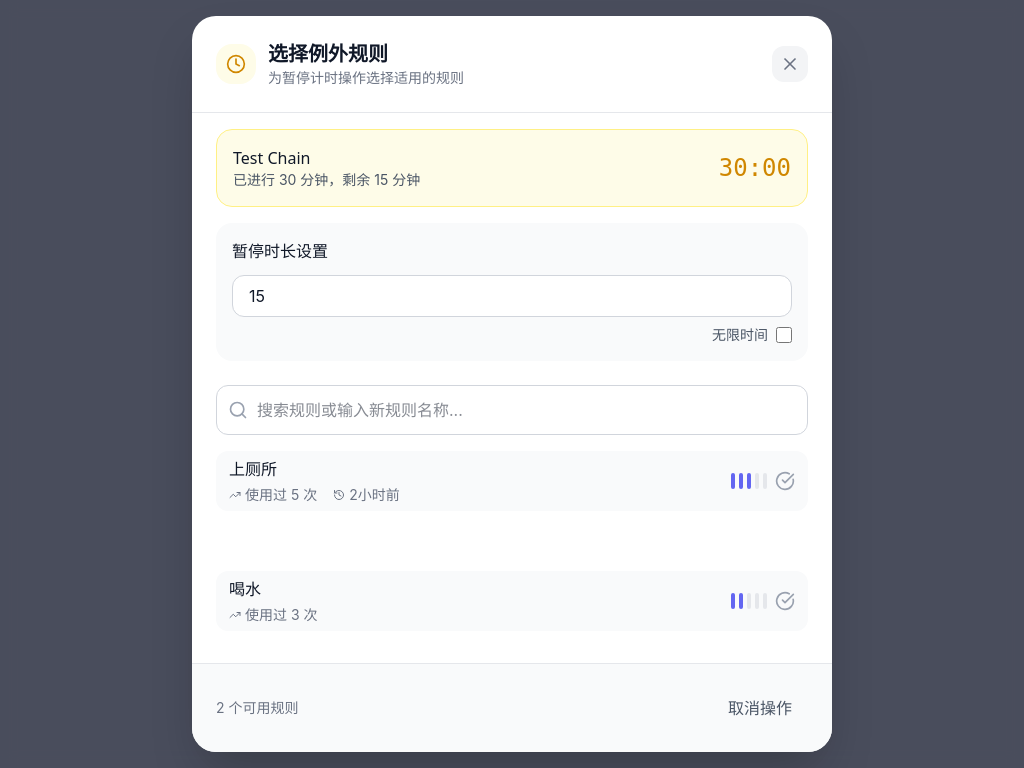
Scenario: RuleSelectionDialog › search functionality › should show create new rule option when typing
Type "新规则" into the field labelled "搜索规则".
click(512, 410); type("新规则")  # box x1=216 y1=385 x2=808 y2=435
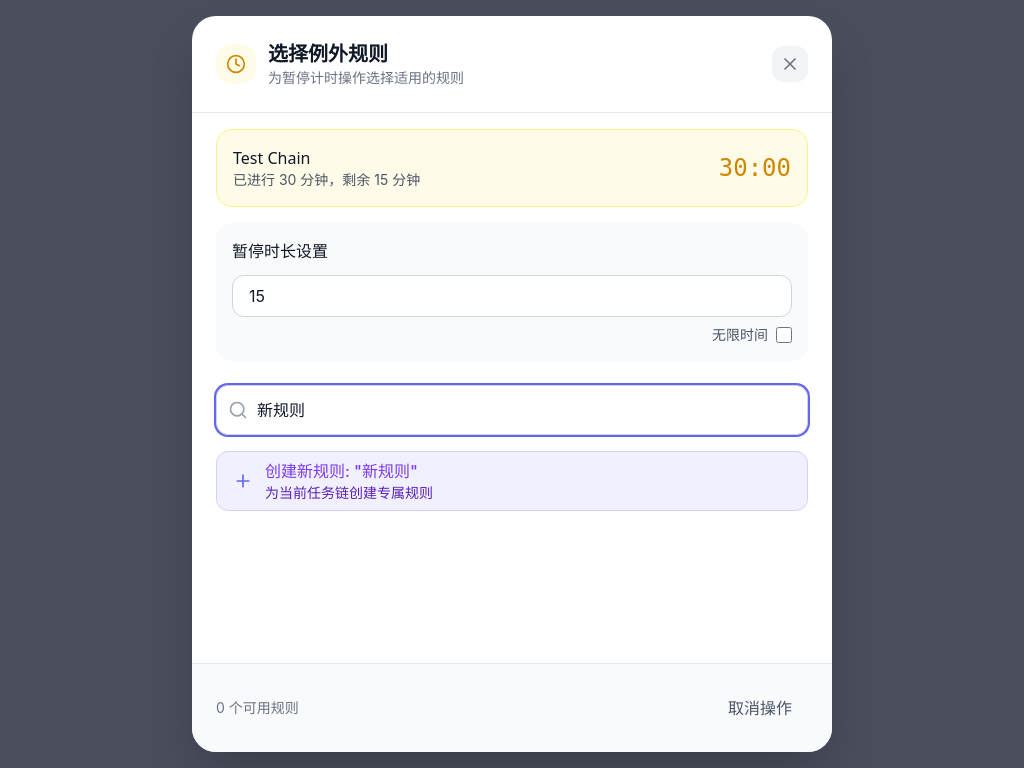
Now the text "创建新规则: \"新规则\"" is shown, box x1=265 y1=461 x2=418 y2=481
Now the text "为当前任务链创建专属规则" is shown, box x1=265 y1=484 x2=433 y2=501
